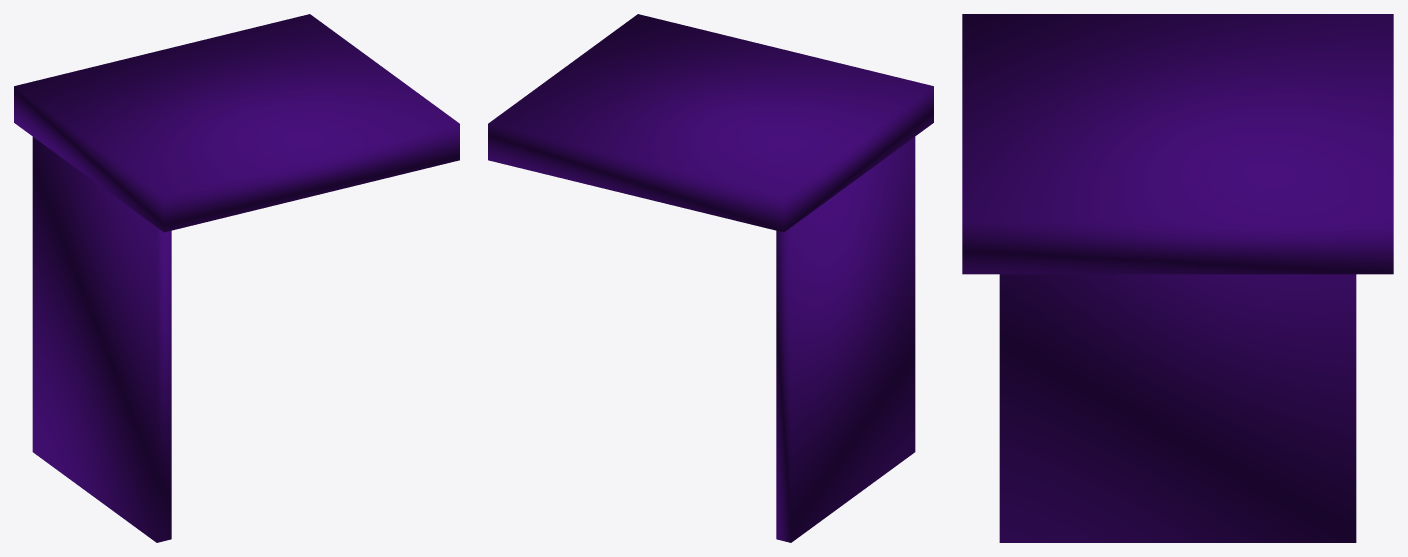
File: Doldurma_06.fbx
3 views of the same model, side by side, from view 1: azimuth 30°, elevation 25°; view 2: azimuth 150°, elevation 25°; view 3: azimuth 270°, elevation 25° (orthographic). The views are drawn at different scales.
Visible parts, largest first — view 1: Cube.019, Cube.021; view 2: Cube.019, Cube.021; view 3: Cube.019, Cube.021.
Boxes of the visible parts, <box> form: Cube.019: <box>14,14,459,232</box>; Cube.021: <box>32,137,171,542</box>; Cube.019: <box>488,14,933,232</box>; Cube.021: <box>776,137,915,542</box>; Cube.019: <box>962,14,1393,274</box>; Cube.021: <box>999,274,1356,542</box>.
Size of the model in its own units: 228 by 263 by 200.
